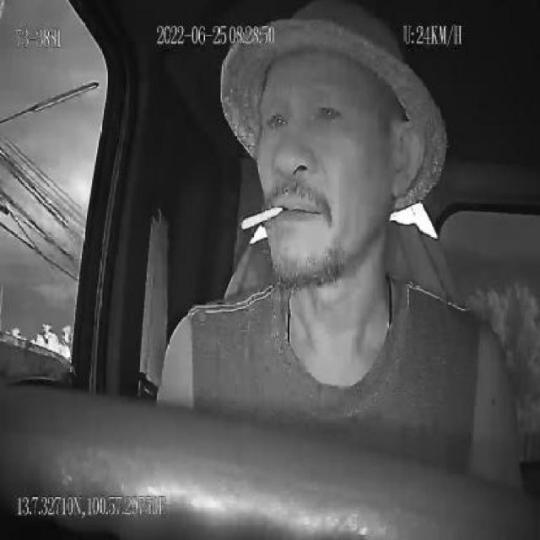smoking: (240, 204, 286, 228)
